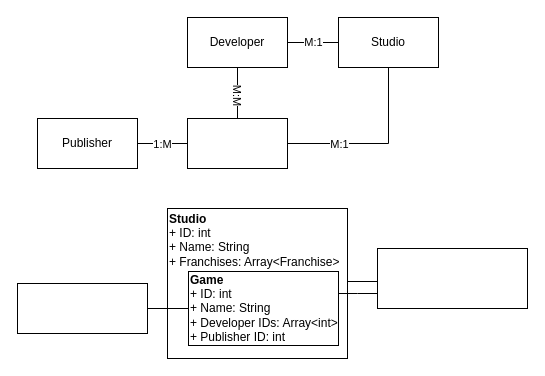
Image size: 545x376. Some labels were removed from this diagram. Each missing label, with the centre of its shape:
"Developer + Name: String + Studio ID: int + ID: int" belongs at point 452,278.
"Game" belongs at point 237,143.
"Publisher + ID: int + Name: String" belongs at point 82,308.
